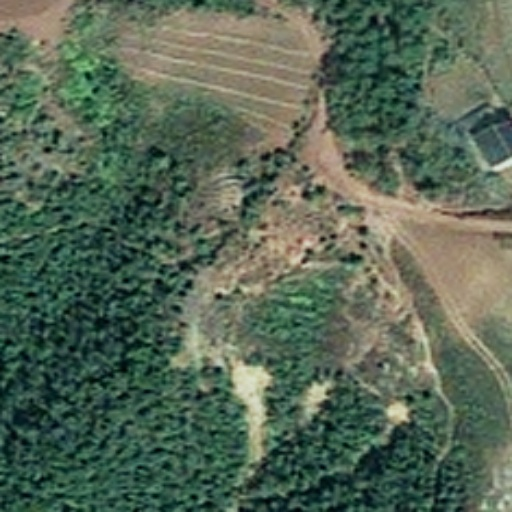landslide: (206, 102, 384, 292), (229, 362, 273, 455)
